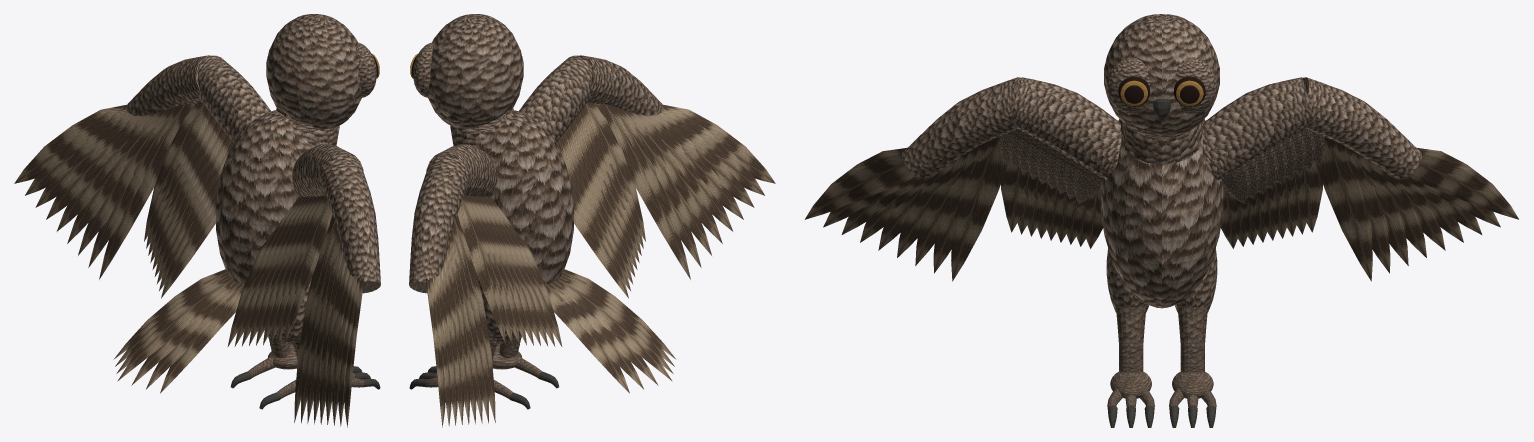
File: kakuy.obj
3 renders of one model, left to right at view 1: azimuth 30°, elevation 25°; view 2: azimuth 150°, elevation 25°; view 3: azimuth 270°, elevation 25°, orthographic. The views are drawn at different scales.
Visible parts, largest first — view 1: trunk_coat, cranium_coat, left_wing_fore_coat, right_wing_upper_coat, right_wing_fore_coat, right_primary_0_flight, tail_3_flight, right_secondary_8_flight, left_secondary_8_flight, right_primary_1_flight, right_primary_2_flight, right_primary_3_flight (+42 smaller); view 2: trunk_coat, cranium_coat, right_wing_fore_coat, left_wing_upper_coat, left_wing_fore_coat, left_primary_0_flight, tail_3_flight, left_secondary_8_flight, right_secondary_8_flight, left_primary_1_flight, left_primary_2_flight, left_primary_3_flight (+42 smaller); view 3: trunk_coat, cranium_coat, left_wing_upper_coat, right_wing_upper_coat, right_wing_fore_coat, left_wing_fore_coat, right_primary_0_flight, left_primary_0_flight, right_primary_8_flight, left_primary_8_flight, neck_coat, left_tarsus_leg (+27 smaller).
Boxes of the visible parts, <box> form: trunk_coat: <box>216,110,313,284</box>; cranium_coat: <box>266,14,361,128</box>; left_wing_fore_coat: <box>319,155,380,293</box>; right_wing_upper_coat: <box>198,55,270,142</box>; right_wing_fore_coat: <box>126,55,214,116</box>; right_primary_0_flight: <box>99,103,194,279</box>; tail_3_flight: <box>117,278,234,381</box>; right_secondary_8_flight: <box>144,102,211,241</box>; left_secondary_8_flight: <box>284,195,332,343</box>; right_primary_1_flight: <box>88,107,174,267</box>; right_primary_2_flight: <box>78,110,164,255</box>; right_primary_3_flight: <box>67,113,154,243</box>; trunk_coat: <box>476,110,573,284</box>; cranium_coat: <box>428,14,523,128</box>; right_wing_fore_coat: <box>409,155,470,293</box>; left_wing_upper_coat: <box>519,55,591,143</box>; left_wing_fore_coat: <box>575,55,663,116</box>; left_primary_0_flight: <box>595,103,690,279</box>; tail_3_flight: <box>555,277,672,381</box>; left_secondary_8_flight: <box>578,102,645,241</box>; right_secondary_8_flight: <box>457,195,505,343</box>; left_primary_1_flight: <box>615,107,701,267</box>; left_primary_2_flight: <box>625,110,711,255</box>; left_primary_3_flight: <box>636,114,722,243</box>; trunk_coat: <box>1100,119,1223,308</box>; cranium_coat: <box>1104,14,1219,138</box>; left_wing_upper_coat: <box>1009,77,1121,179</box>; right_wing_upper_coat: <box>1202,77,1314,179</box>; right_wing_fore_coat: <box>1302,77,1421,179</box>; left_wing_fore_coat: <box>902,77,1021,179</box>; right_primary_0_flight: <box>1315,136,1372,281</box>; left_primary_0_flight: <box>951,136,1008,281</box>; right_primary_8_flight: <box>1409,147,1518,219</box>; left_primary_8_flight: <box>805,147,914,219</box>; neck_coat: <box>1122,124,1201,164</box>; left_tarsus_leg: <box>1116,307,1145,372</box>.
Bounding box in the file's own units: 70.87 × 100 × 166.
Materials: 4 (4 with a texture image).
